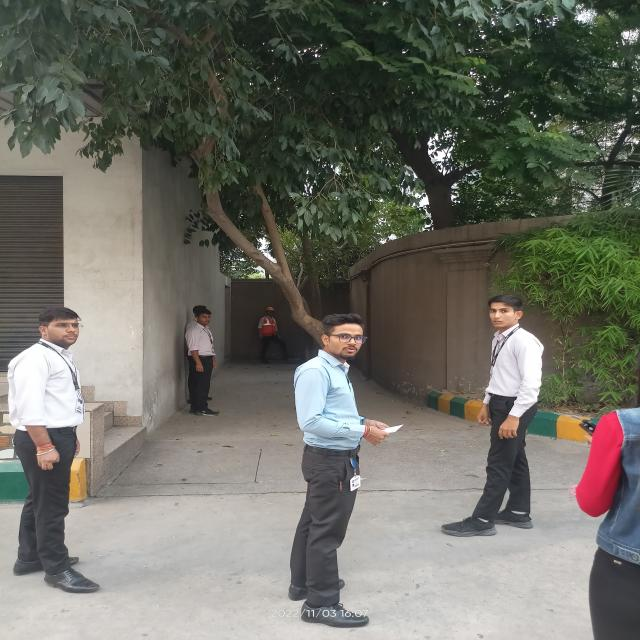safe: (255, 306, 289, 366)
unsafe: (280, 313, 384, 626), (0, 300, 98, 596), (442, 293, 548, 543), (185, 307, 218, 419)
